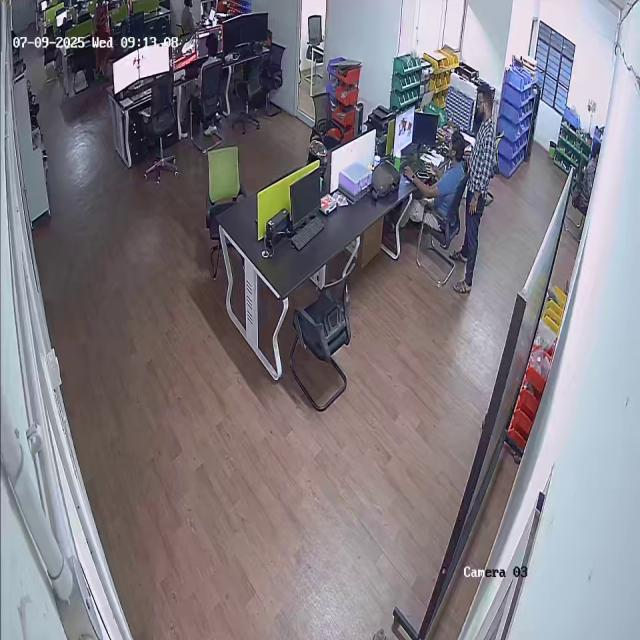person: (452, 83, 497, 296)
